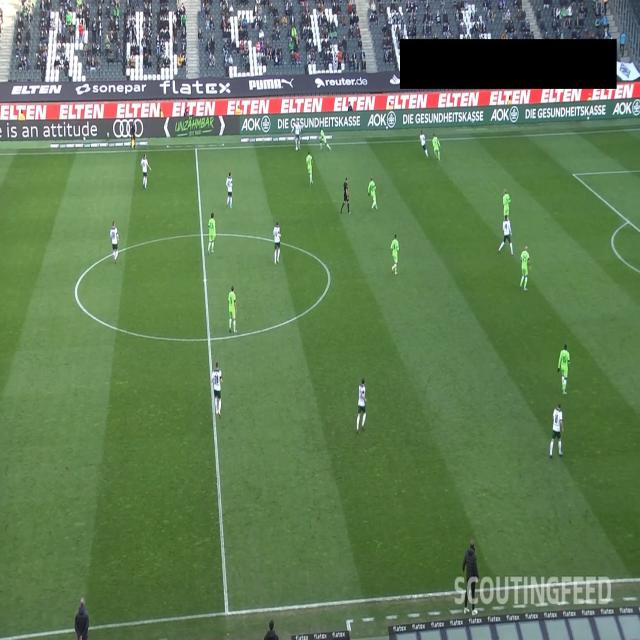ball: (295, 145, 298, 152)
